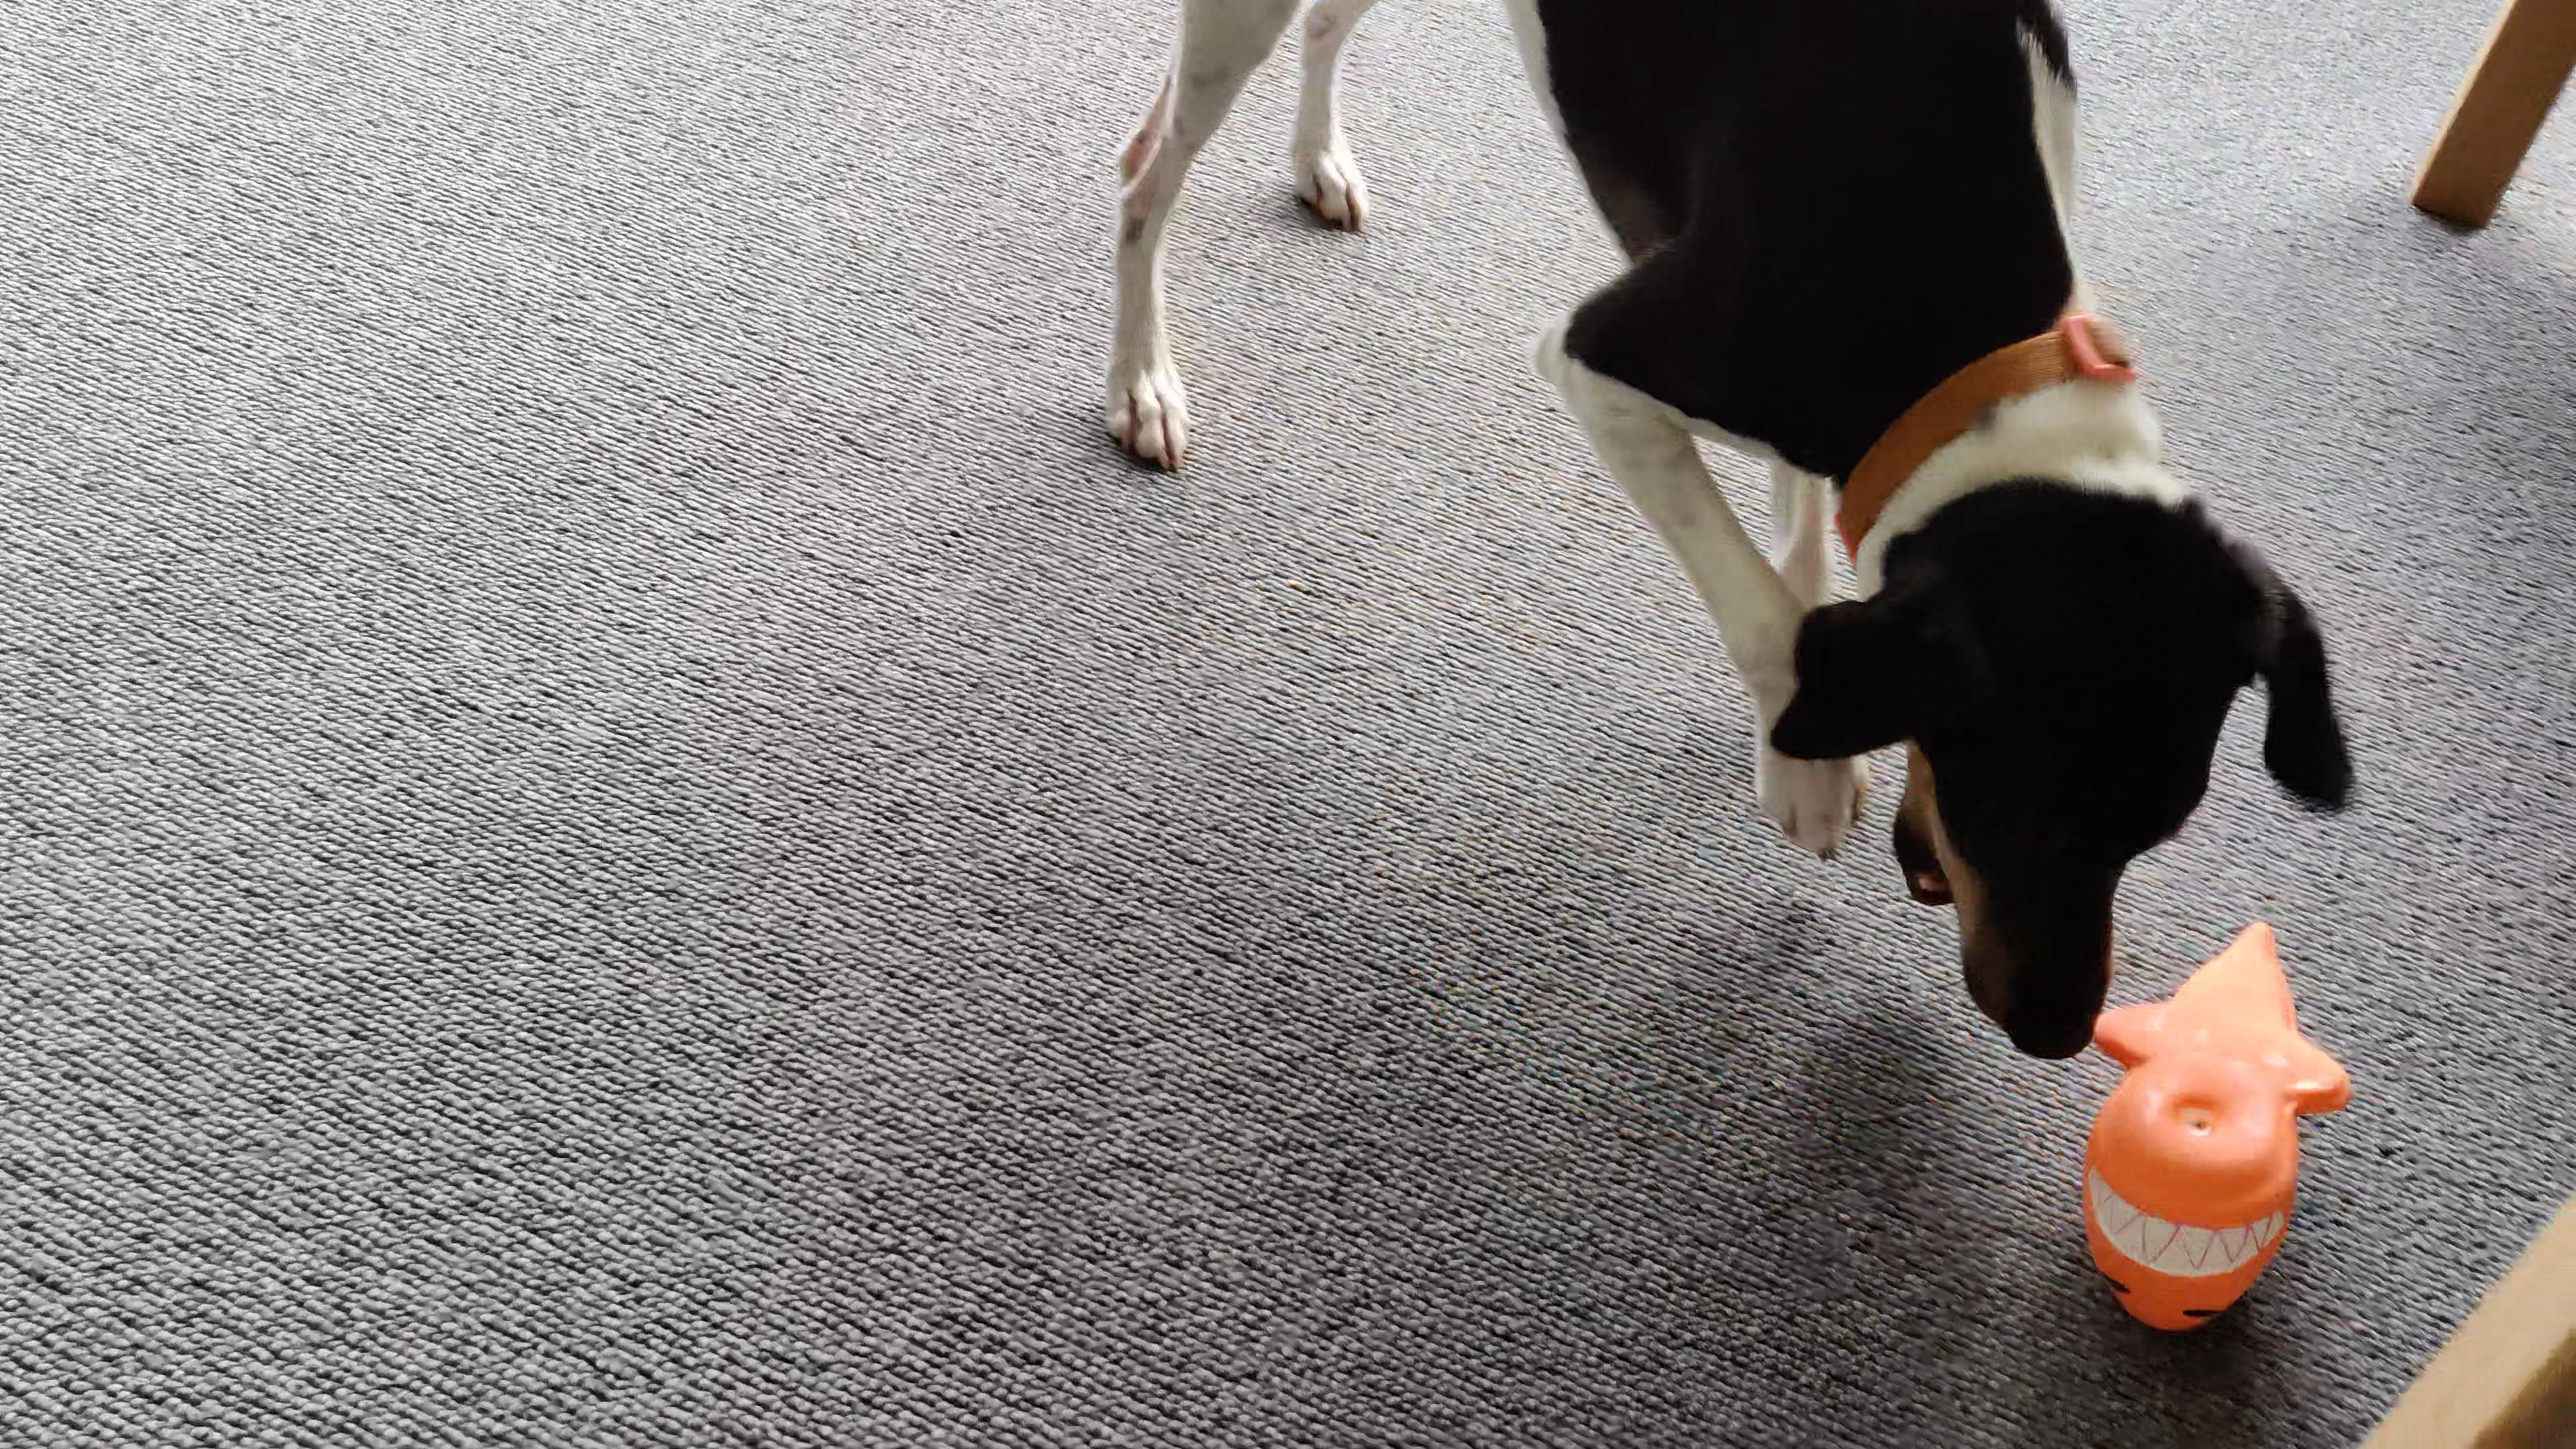Dog: (1092, 0, 2369, 1069)
